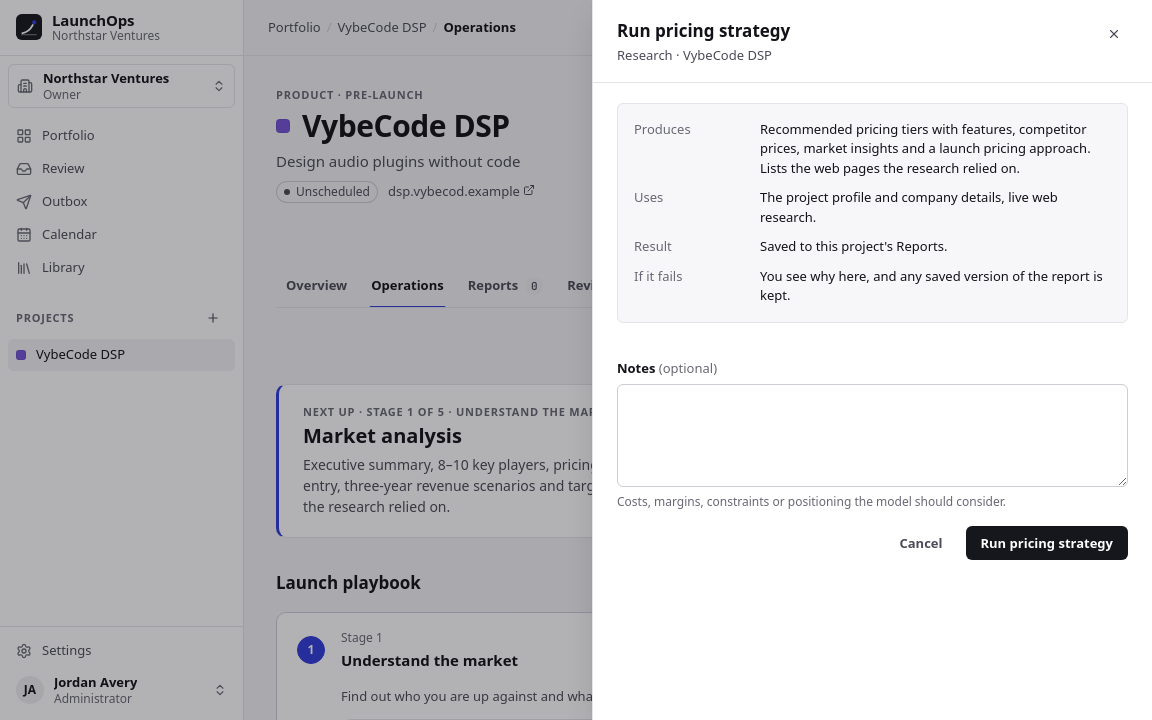
Operations › shows the server's reason when a report can't run
Expected: the text "You see why here, and any saved version of the report is kept." is shown, top-left (760, 267), bottom-right (1111, 306)
Click the button "Run pricing strategy" at (1047, 543), box top-left (966, 526), bottom-right (1128, 560)
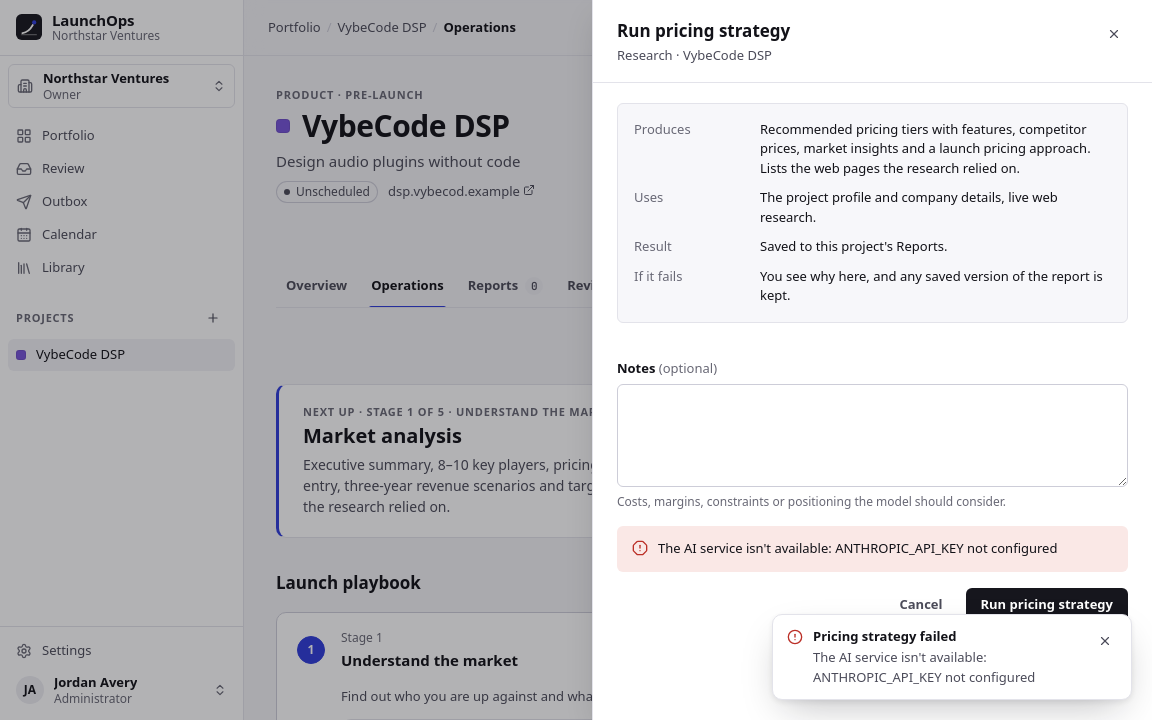
Expected: the text "Pricing strategy failed" is shown, top-left (813, 626), bottom-right (956, 644)
Expected: the text "The AI service isn't available: ANTHROPIC_API_KEY not configured" below "Pricing strategy failed" is shown, top-left (813, 648), bottom-right (1035, 686)
